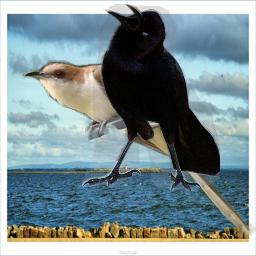Crow: (82, 4, 220, 191)
Cuckoo: (22, 60, 256, 239)
